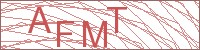A: (27, 6, 53, 34)
F: (55, 20, 76, 48)
M: (80, 20, 109, 49)
T: (105, 5, 129, 33)
